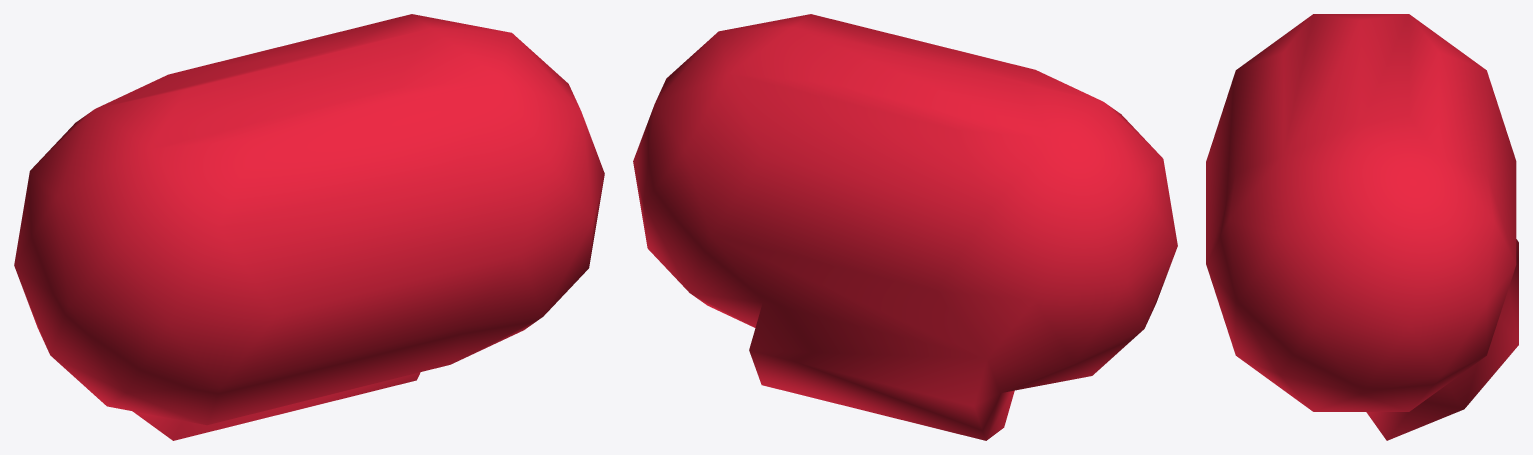
File: cloud_red.glb
3 renders of one model, left to right at view 1: azimuth 30°, elevation 25°; view 2: azimuth 150°, elevation 25°; view 3: azimuth 270°, elevation 25°, orthographic. The views are drawn at different scales.
Visible parts, largest first — view 1: Icosphere; view 2: Icosphere; view 3: Icosphere.
Boxes of the visible parts, <box> form: Icosphere: <box>14,14,604,440</box>; Icosphere: <box>633,14,1177,440</box>; Icosphere: <box>1206,14,1518,440</box>.
Bounding box in the file's own units: 3.49 × 2.26 × 2.02.
